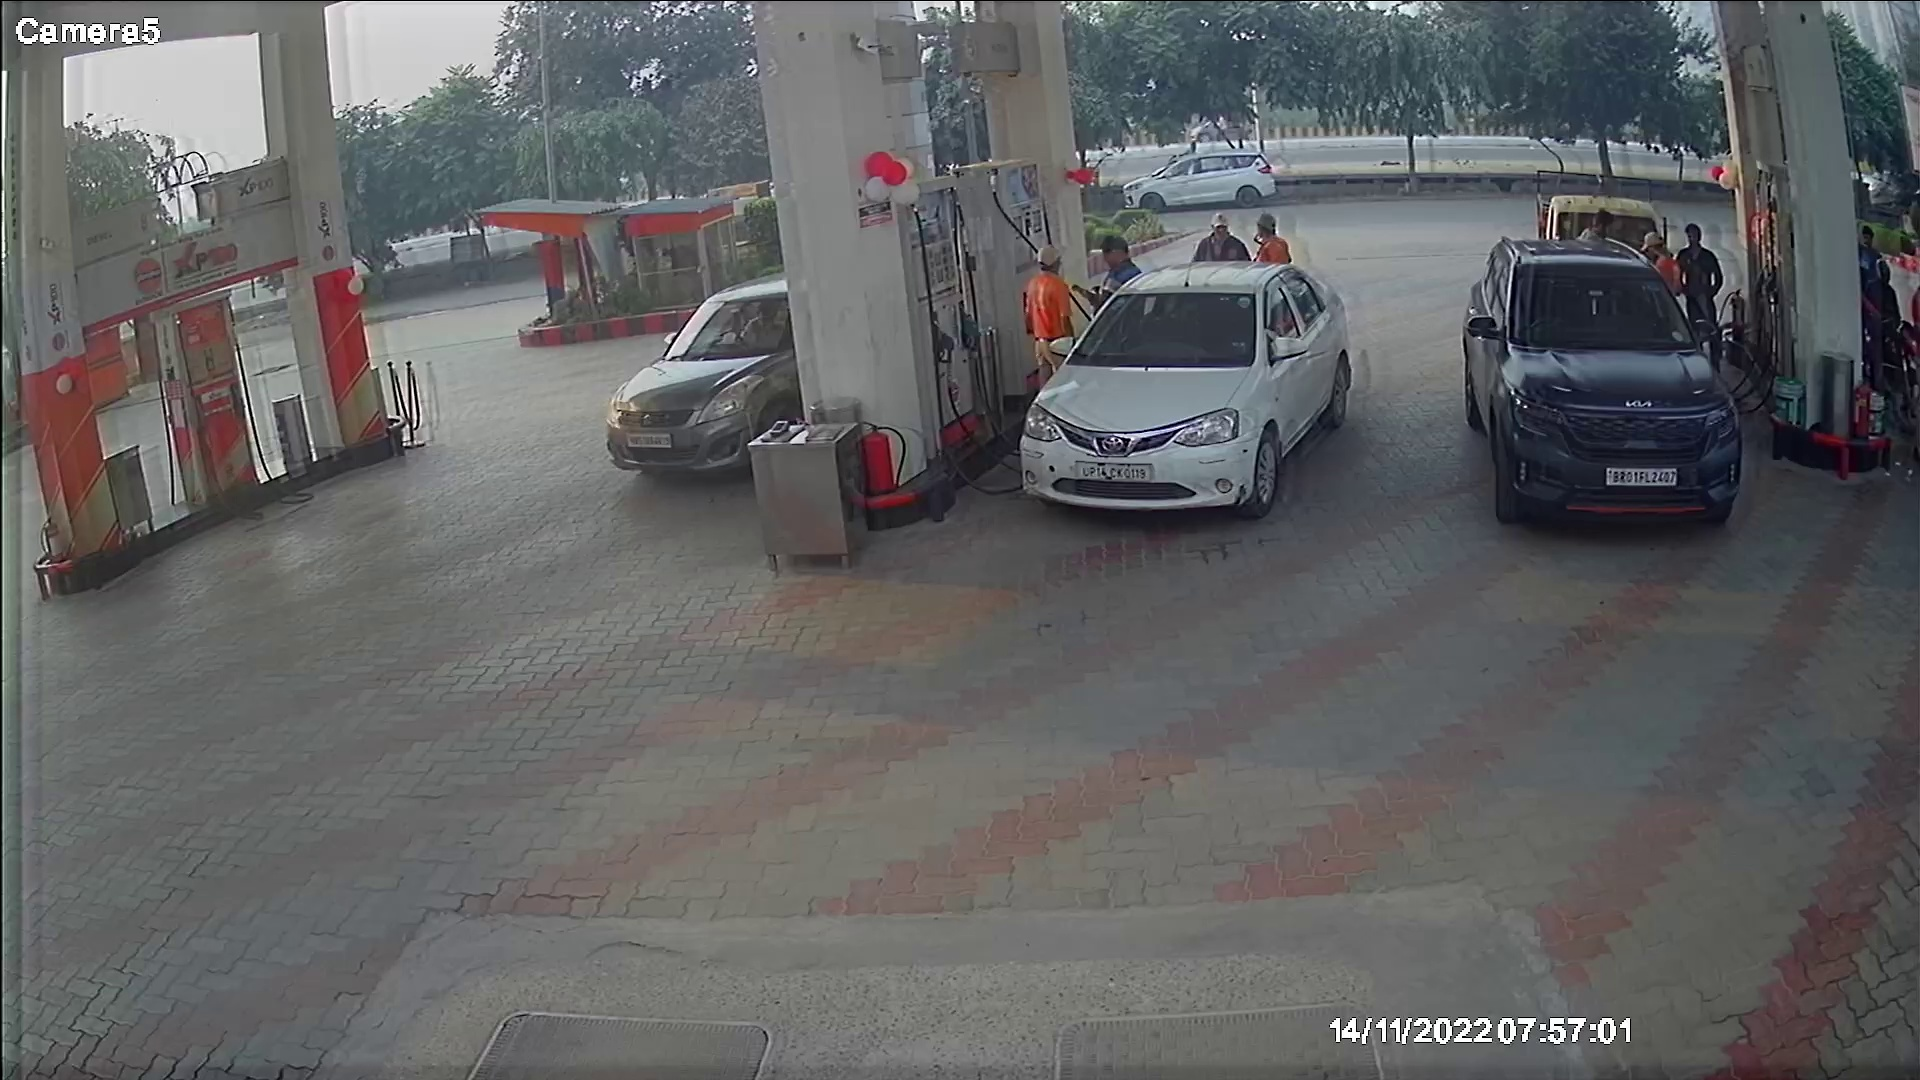Bike: (1858, 220, 1915, 454)
Car: (1025, 241, 1356, 534), (1455, 227, 1751, 545), (596, 266, 804, 488), (1523, 158, 1676, 276), (1116, 133, 1287, 223)
Others: (1025, 233, 1076, 398), (1635, 215, 1684, 305), (1247, 208, 1294, 266)
